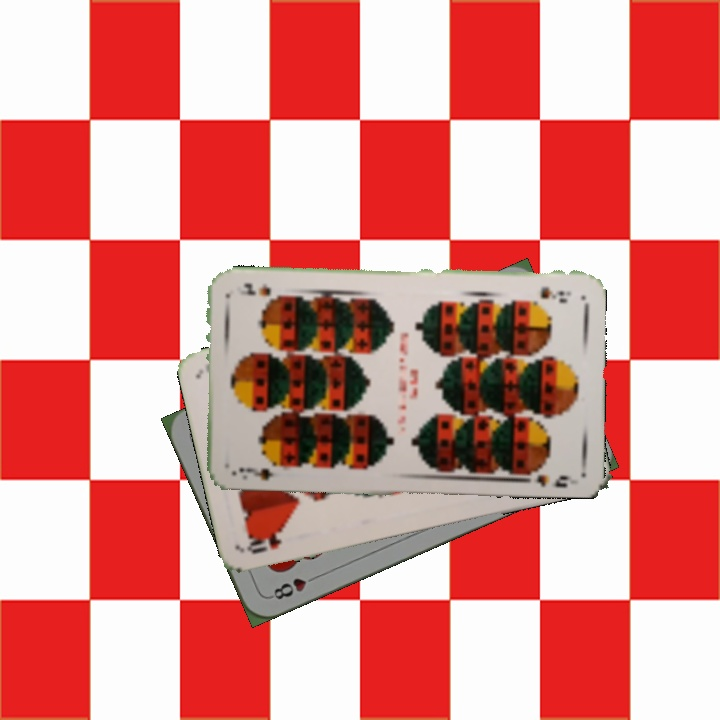H8: (266, 570, 322, 603)
HO: (243, 528, 287, 557)
S9: (235, 463, 276, 483), (536, 283, 573, 303)
